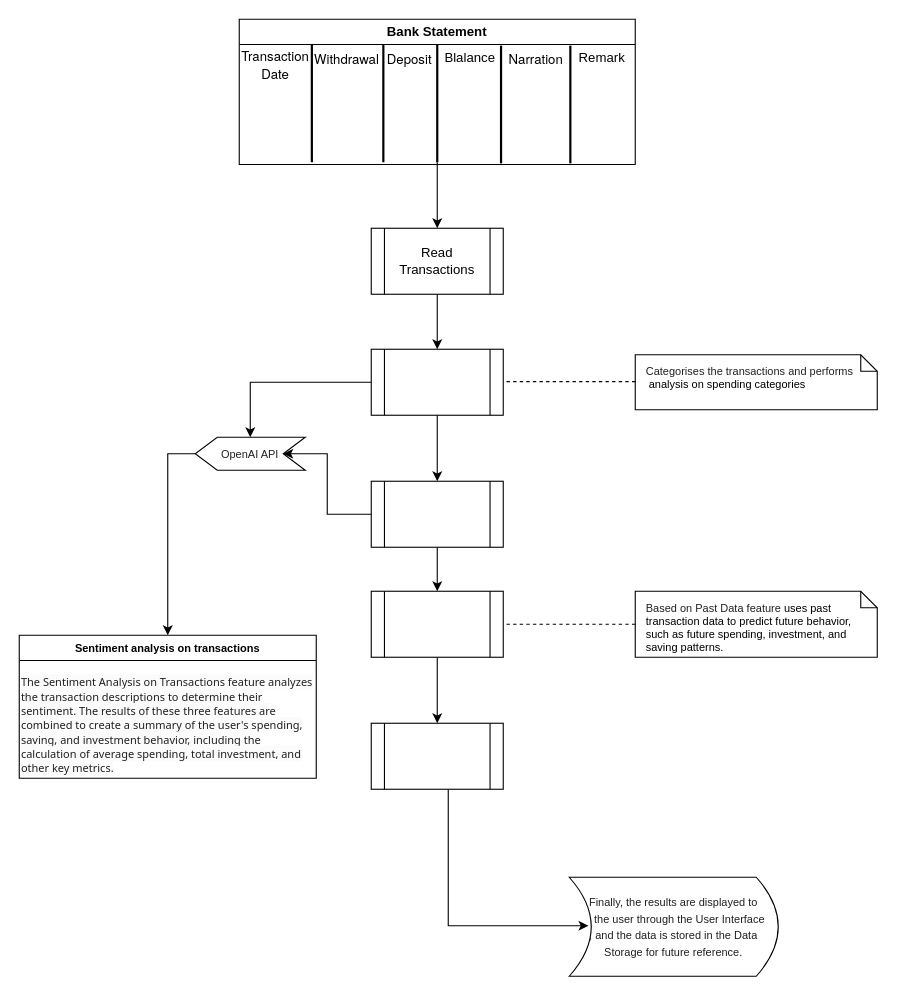
This 897x996 diagram has some shape labels left out. The shapes that lost their labels are listed below. From the top down, each one's centre as x and y in pixels, then its label:
At pixel 436 381: "Extraction of transaction descriptions from narration".
At pixel 436 513: "Categorization of transactions".
At pixel 436 623: "Predict Future Behaviour".
At pixel 436 755: "User Interface".
